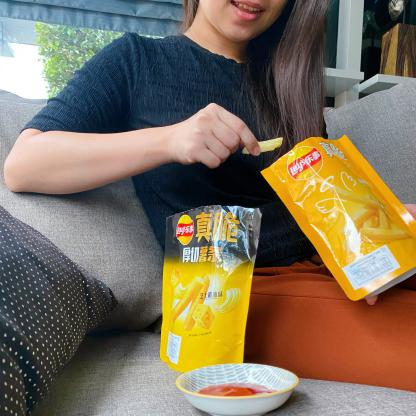potatochip: (263, 133, 416, 303), (160, 204, 262, 377)
